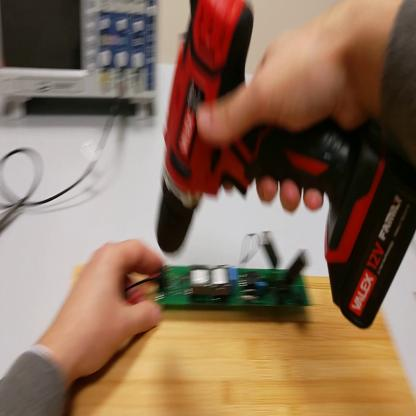electric screwdriver: (163, 2, 416, 337)
hand: (196, 17, 372, 211), (59, 239, 165, 377)
high voltage board: (136, 232, 322, 320)
oscilloscope: (1, 2, 161, 118)
oscilloscope probe tip: (2, 200, 24, 231)
working area: (79, 255, 416, 415)
